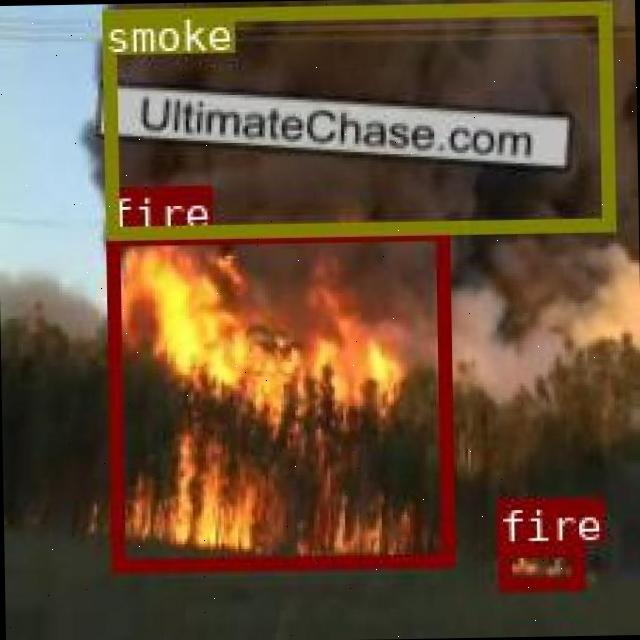fire: (103, 225, 450, 570), (496, 540, 583, 586)
smoke: (99, 0, 612, 236)
